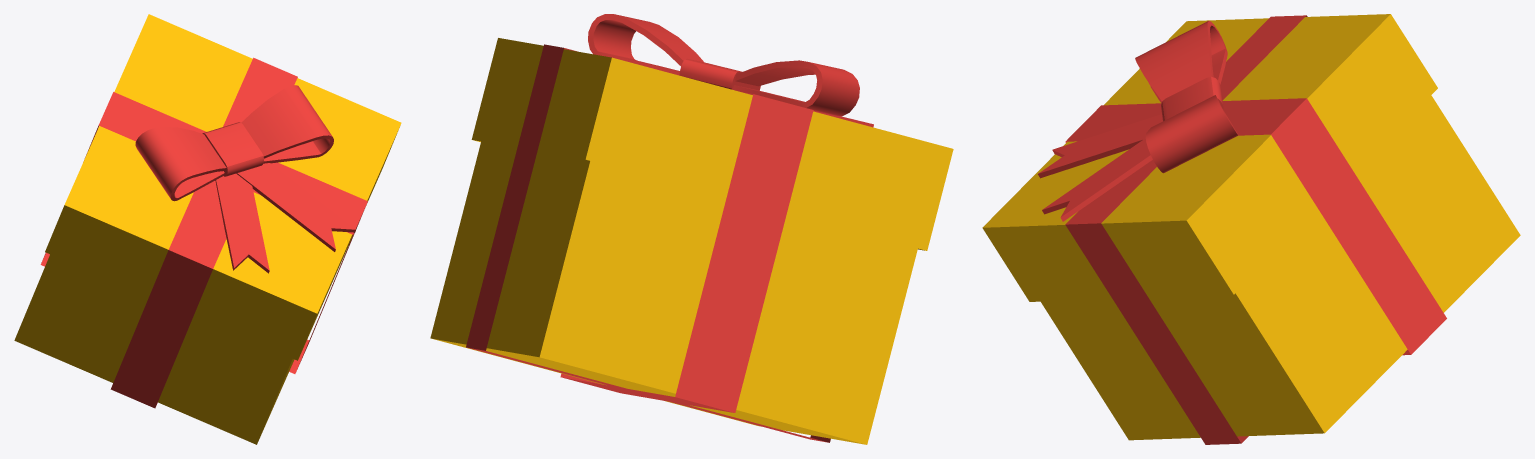
Rendered from wrapped_gift.glb.
3 renders of one model, left to right at view 1: azimuth 30°, elevation 25°; view 2: azimuth 150°, elevation 25°; view 3: azimuth 270°, elevation 25°, orthographic. The views are drawn at different scales.
Visible parts, largest first — view 1: Cube.096, Cube.098, Cube.104; view 2: Cube.096, Cube.104, Cube.098; view 3: Cube.096, Cube.104, Cube.098.
Boxes of the visible parts, left/top/right/bottom form: Cube.096: left=14, top=14, right=401, bottom=444; Cube.098: left=135, top=85, right=355, bottom=273; Cube.104: left=40, top=57, right=367, bottom=408; Cube.096: left=430, top=38, right=953, bottom=444; Cube.104: left=466, top=44, right=830, bottom=442; Cube.098: left=588, top=14, right=873, bottom=127; Cube.096: left=982, top=14, right=1520, bottom=440; Cube.104: left=1065, top=15, right=1446, bottom=444; Cube.098: left=1038, top=20, right=1238, bottom=221.
Bounding box in the file's own units: 2.06 × 2.06 × 2.36.
1 material, 1 textured.
